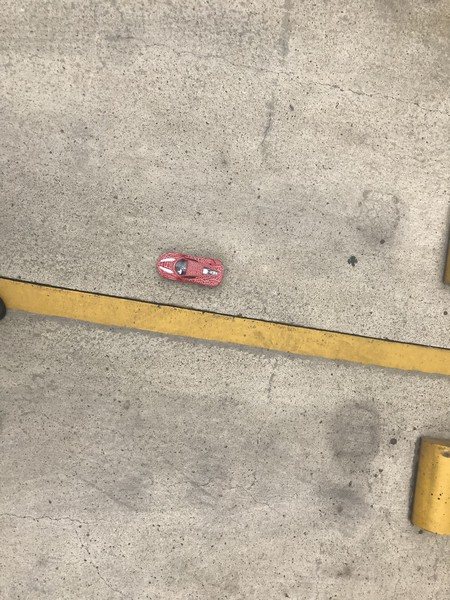RC: (155, 250, 227, 291)
